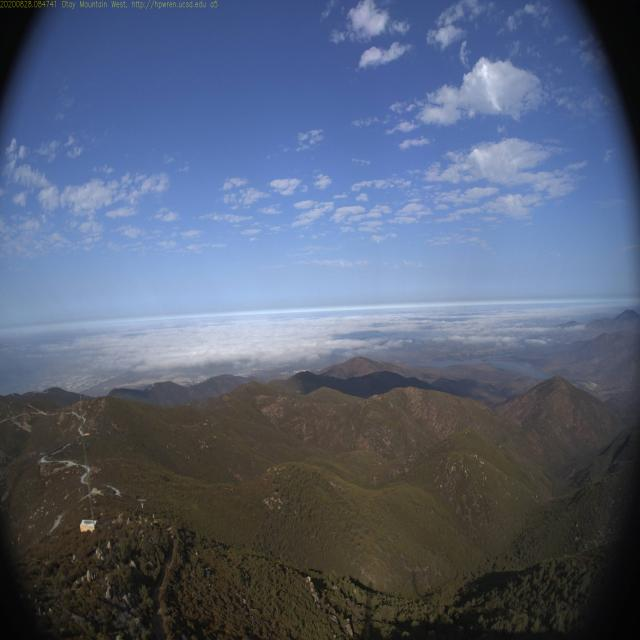smoke: (511, 356, 540, 398)
